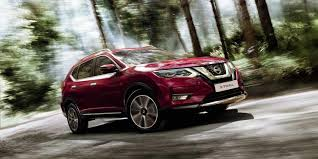Nissan: (61, 52, 243, 119)
